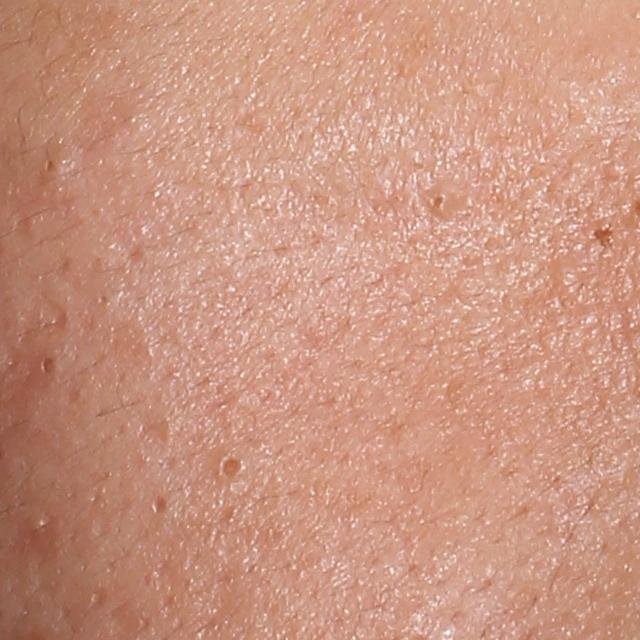atrophic_scar: (12, 290, 71, 347), (130, 401, 173, 473)
comedo: (213, 440, 252, 484), (422, 188, 453, 221), (147, 490, 173, 520), (38, 353, 63, 378), (95, 289, 112, 310)
